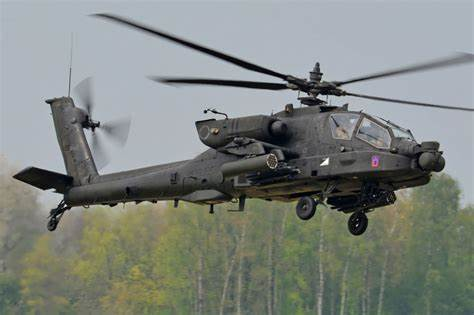Aeronef_militaire: (8, 8, 474, 241)
